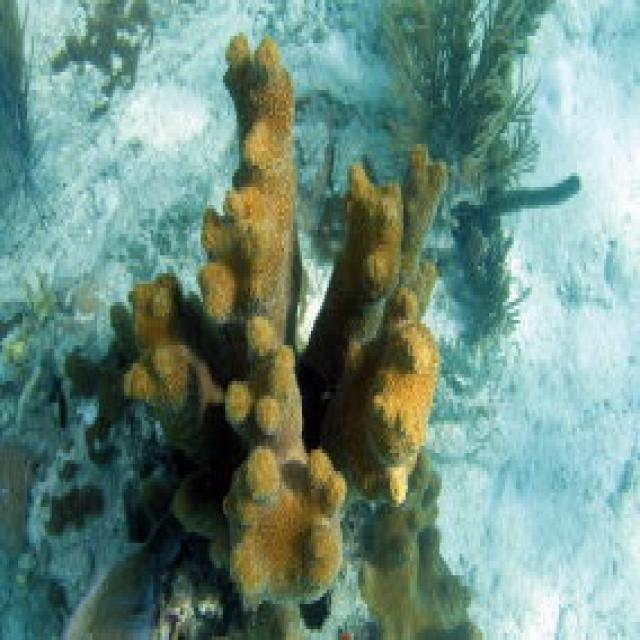Coral: (122, 33, 448, 611)
